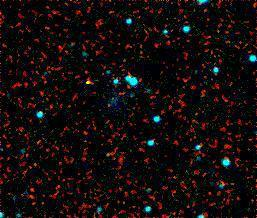star: (72, 65, 102, 95)
